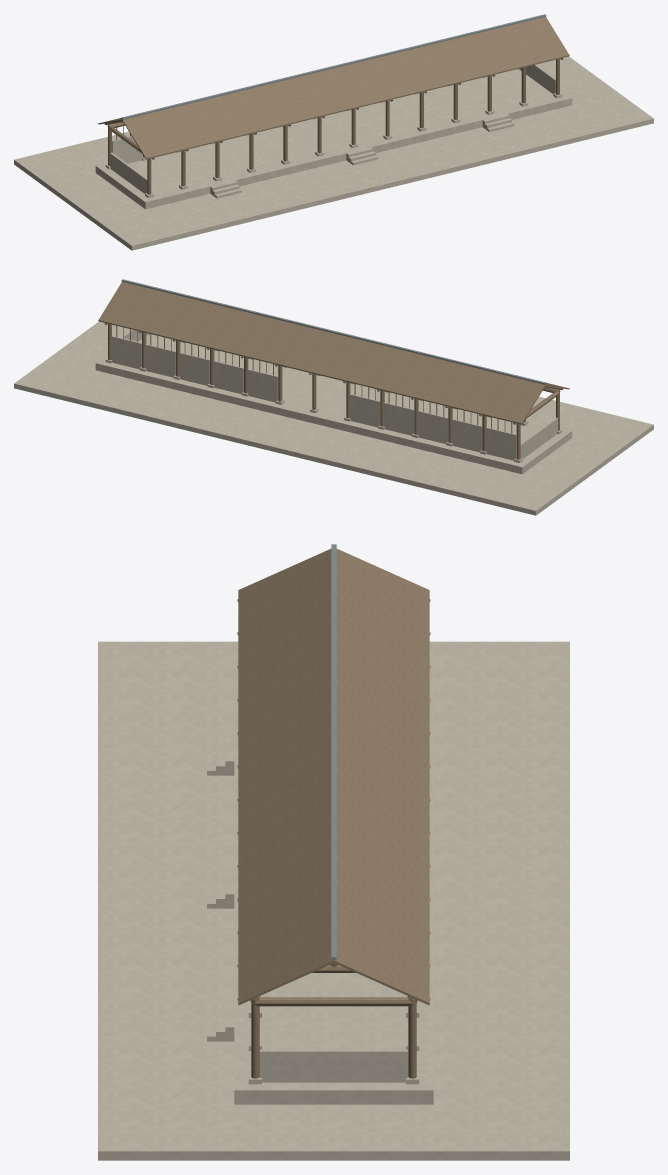
The model's file is hall-A-LOD1.gltf.
3 renders of one model, top to bottom at view 1: azimuth 30°, elevation 25°; view 2: azimuth 150°, elevation 25°; view 3: azimuth 270°, elevation 25°, orthographic. The views are drawn at different scales.
Visible parts, largest first — view 1: A_presentation_ground, A_roof_board, A_platform, A_ridge_cap_C, A_gable_lowwall, A_rear_infill, A_gable_lowwall.001; view 2: A_presentation_ground, A_roof_board.001, A_platform, A_ridge_cap_C, A_rear_infill.005, A_rear_infill.002, A_rear_infill, A_rear_infill.001, A_rear_infill.004, A_rear_infill.003, A_rear_infill.009, A_rear_infill.008 (+3 smaller); view 3: A_presentation_ground, A_roof_board, A_roof_board.001, A_platform, A_gable_lowwall.001, A_ridge_cap_C, A_cross_tie.012.
Boxes of the visible parts, x1,y1,x2,y2 form: A_presentation_ground: (14, 56, 653, 250); A_roof_board: (122, 16, 569, 159); A_platform: (95, 69, 572, 209); A_ridge_cap_C: (121, 14, 546, 119); A_gable_lowwall: (110, 152, 147, 193); A_rear_infill: (112, 135, 142, 163); A_gable_lowwall.001: (519, 64, 555, 93); A_presentation_ground: (14, 321, 653, 515); A_roof_board.001: (98, 281, 545, 424); A_platform: (95, 334, 572, 474); A_ridge_cap_C: (121, 279, 546, 384); A_rear_infill.005: (247, 368, 278, 402); A_rear_infill.002: (417, 410, 448, 443); A_rear_infill: (485, 427, 516, 460); A_rear_infill.001: (451, 418, 482, 452); A_rear_infill.004: (349, 393, 380, 427); A_rear_infill.003: (383, 402, 414, 435); A_rear_infill.009: (111, 335, 141, 369); A_rear_infill.008: (145, 343, 175, 377); A_presentation_ground: (98, 641, 569, 1160); A_roof_board: (238, 549, 333, 1005); A_roof_board.001: (334, 549, 429, 1005); A_platform: (234, 674, 433, 1104); A_gable_lowwall.001: (259, 1049, 408, 1082); A_ridge_cap_C: (331, 544, 336, 960); A_cross_tie.012: (255, 997, 412, 1006).
Bounding box in the file's own units: 46 × 6.53 × 18.
Materials: 3 (3 with a texture image).
